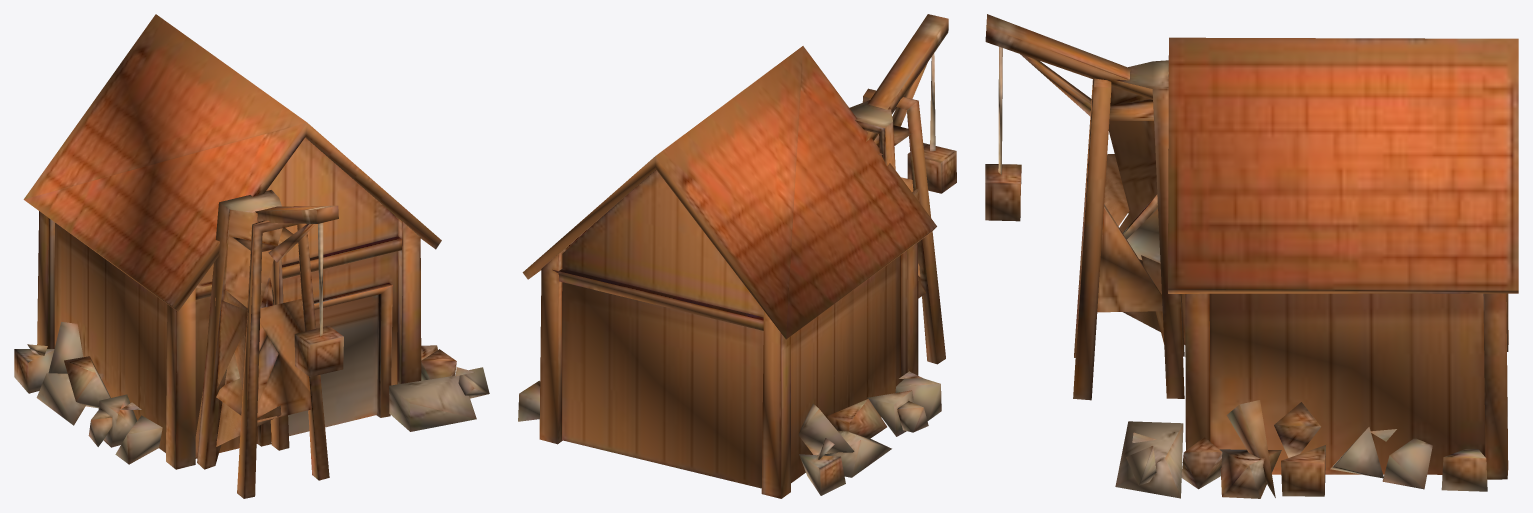
The picture shows the model from 3 angles, left to right: view 1: azimuth 30°, elevation 25°; view 2: azimuth 150°, elevation 25°; view 3: azimuth 270°, elevation 25°; orthographic projection. The views are drawn at different scales.
Parts seen in each view (by area): view 1: supply33; view 2: supply33; view 3: supply33.
Boxes of the visible parts, <box> form: supply33: <box>14,14,489,498</box>; supply33: <box>518,14,956,498</box>; supply33: <box>985,14,1518,498</box>.
Bounding box in the file's own units: 2.47 × 2.25 × 2.9.
Materials: 1 (1 with a texture image).
